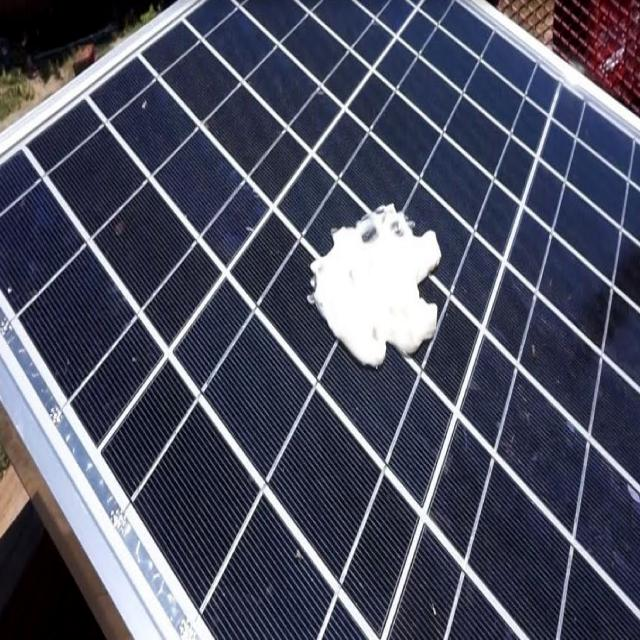bird: (303, 177, 446, 382)
